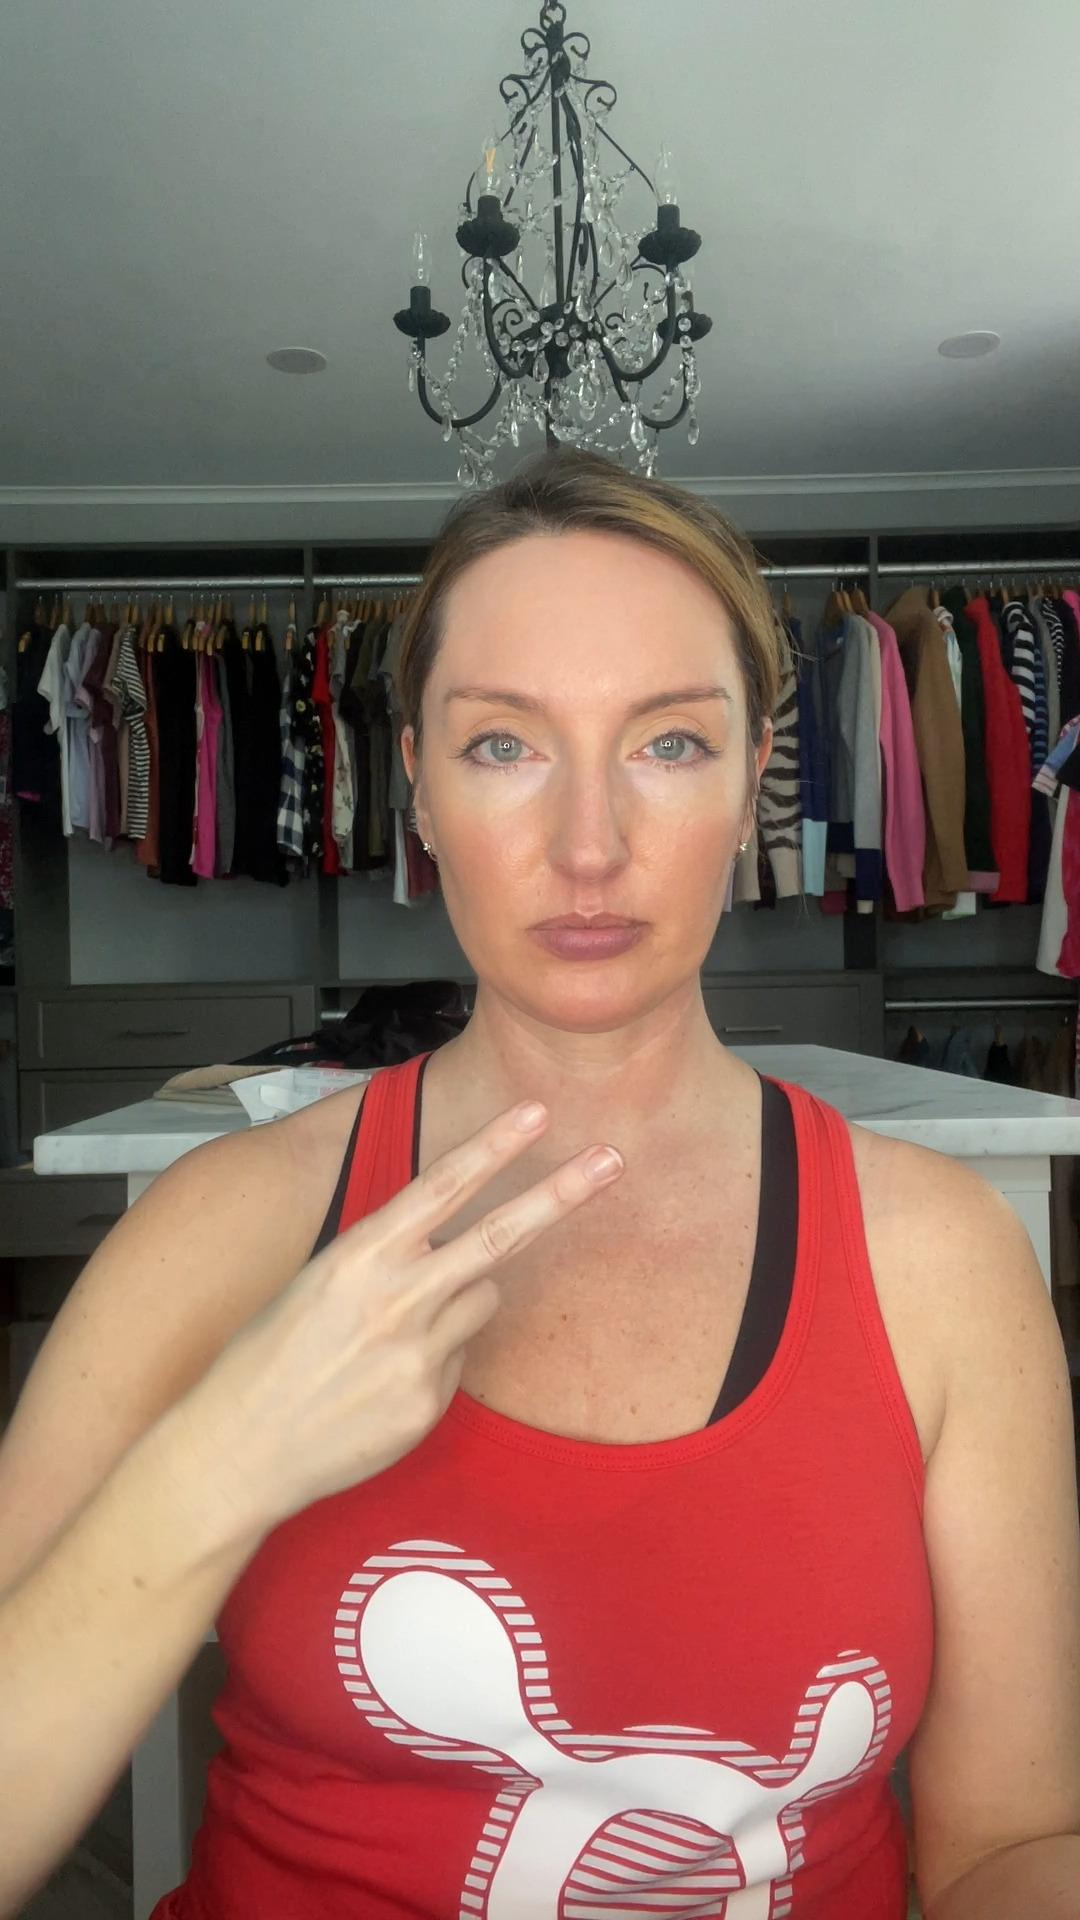Scissors: (220, 1091, 625, 1499)
